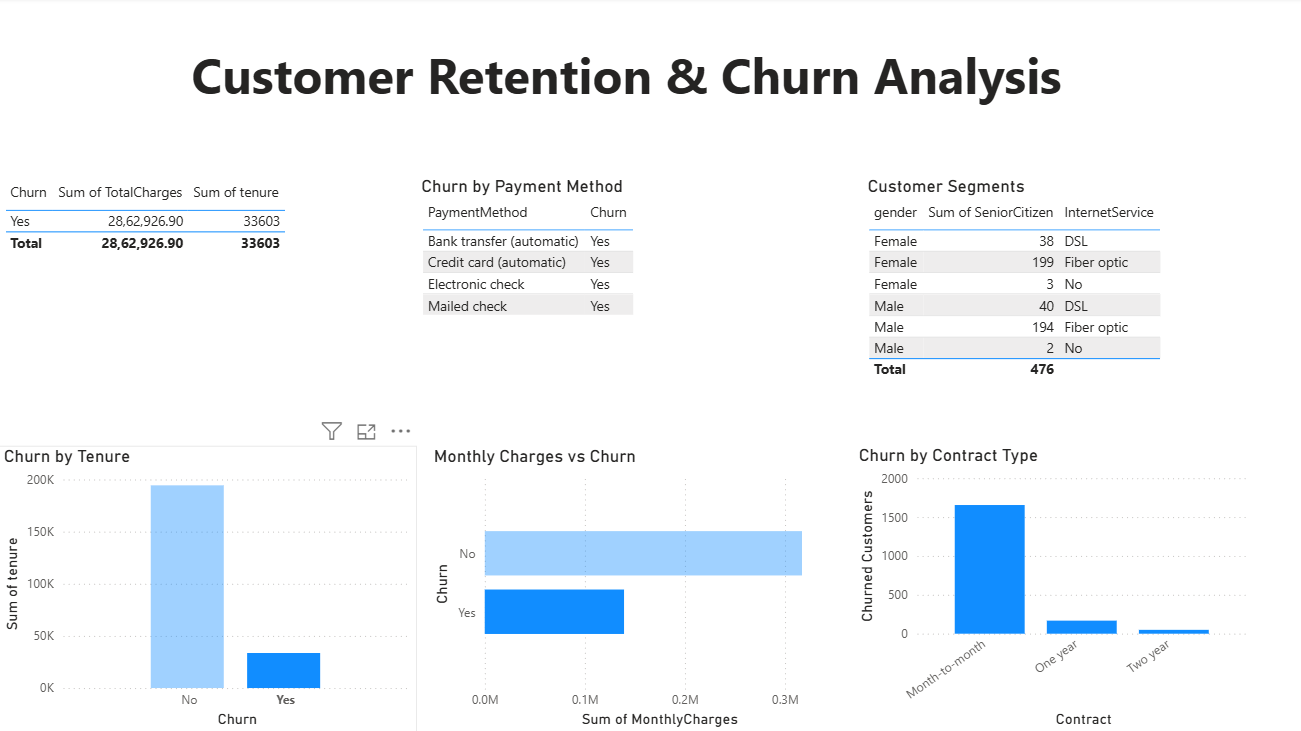

This screenshot's page, from the dashboard's own definition file:
{"tool":"powerbi","page":{"name":"Page 1","canvas":[1280,720],"ordinal":0},"visuals":[{"type":"tableEx","fields":{"Values":["WA_Fn-UseC_-Telco-Customer-Churn (2).Churn","Sum(WA_Fn-UseC_-Telco-Customer-Churn (2).TotalCharges)","Sum(WA_Fn-UseC_-Telco-Customer-Churn (2).tenure)"]},"box":[0,174.4,408.2,264.6],"z":0},{"type":"clusteredColumnChart","title":"Churn by Contract Type","fields":{"Category":["WA_Fn-UseC_-Telco-Customer-Churn (2).Contract"],"Y":["WA_Fn-UseC_-Telco-Customer-Churn (2).Churned Customers"]},"box":[836,438,392,282],"z":3},{"type":"clusteredColumnChart","title":"Churn by Tenure","fields":{"Y":["Sum(WA_Fn-UseC_-Telco-Customer-Churn (2).tenure)"],"Category":["WA_Fn-UseC_-Telco-Customer-Churn (2).Churn"]},"box":[0,439,408.2,281],"z":4},{"type":"tableEx","title":"Churn by Payment Method","fields":{"Values":["WA_Fn-UseC_-Telco-Customer-Churn (2).PaymentMethod","WA_Fn-UseC_-Telco-Customer-Churn (2).Churn"]},"box":[408.2,174.4,428.7,240],"z":5},{"type":"barChart","title":"Monthly Charges vs Churn","fields":{"Y":["Sum(WA_Fn-UseC_-Telco-Customer-Churn (2).MonthlyCharges)"],"Category":["WA_Fn-UseC_-Telco-Customer-Churn (2).Churn"]},"box":[420.5,439,416.4,281],"z":6},{"type":"tableEx","title":"Customer Segments","fields":{"Values":["WA_Fn-UseC_-Telco-Customer-Churn (2).gender","Sum(WA_Fn-UseC_-Telco-Customer-Churn (2).SeniorCitizen)","WA_Fn-UseC_-Telco-Customer-Churn (2).InternetService"]},"box":[845.1,174.4,428.7,240],"z":7},{"type":"textbox","box":[0,38,1228,106],"z":8}]}

Visuals, with their boxes in screenshot pixels (x1, y1, x2, y2), scaled from the page's 1280x720 canvas onto the 1301x731 screenshot:
tableEx - WA_Fn-UseC_-Telco-Customer-Churn (2).Churn x Sum(WA_Fn-UseC_-Telco-Customer-Churn (2).TotalCharges): [0,177,415,446]
"Churn by Contract Type" clusteredColumnChart: [850,445,1248,730]
"Churn by Tenure" clusteredColumnChart: [0,446,415,730]
"Churn by Payment Method" tableEx: [415,177,851,421]
"Monthly Charges vs Churn" barChart: [427,446,851,730]
"Customer Segments" tableEx: [859,177,1295,421]
textbox: [0,39,1248,146]
